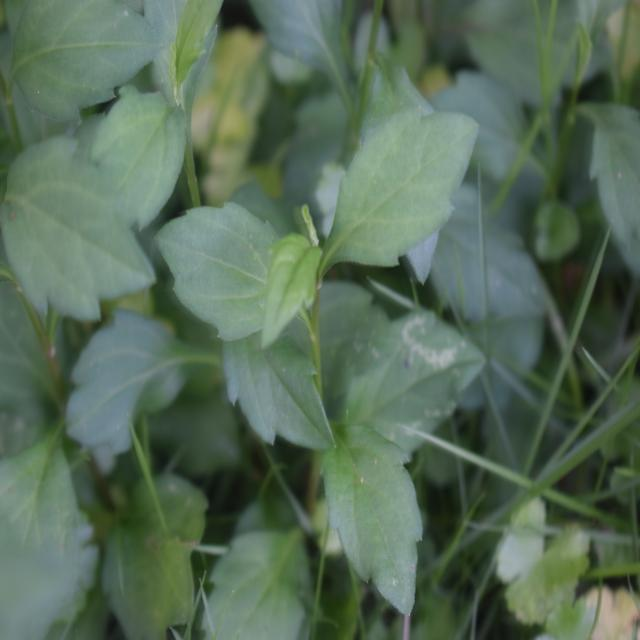Indian aster: (178, 82, 476, 571)
